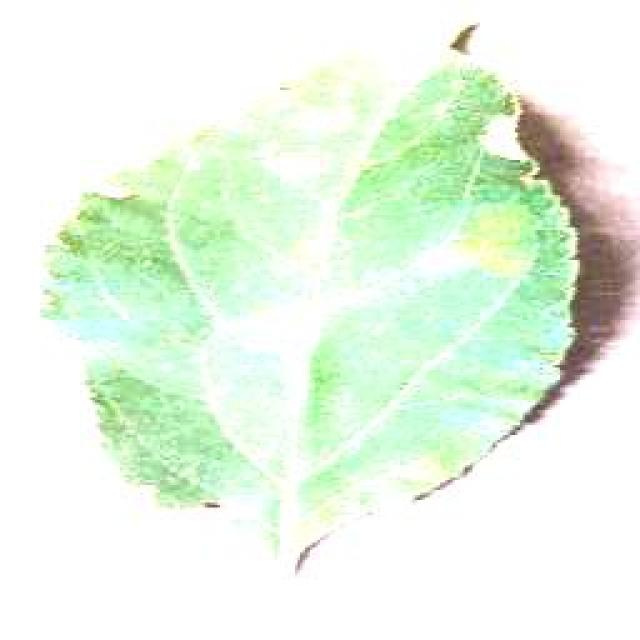apple healthy: (35, 20, 637, 572)
